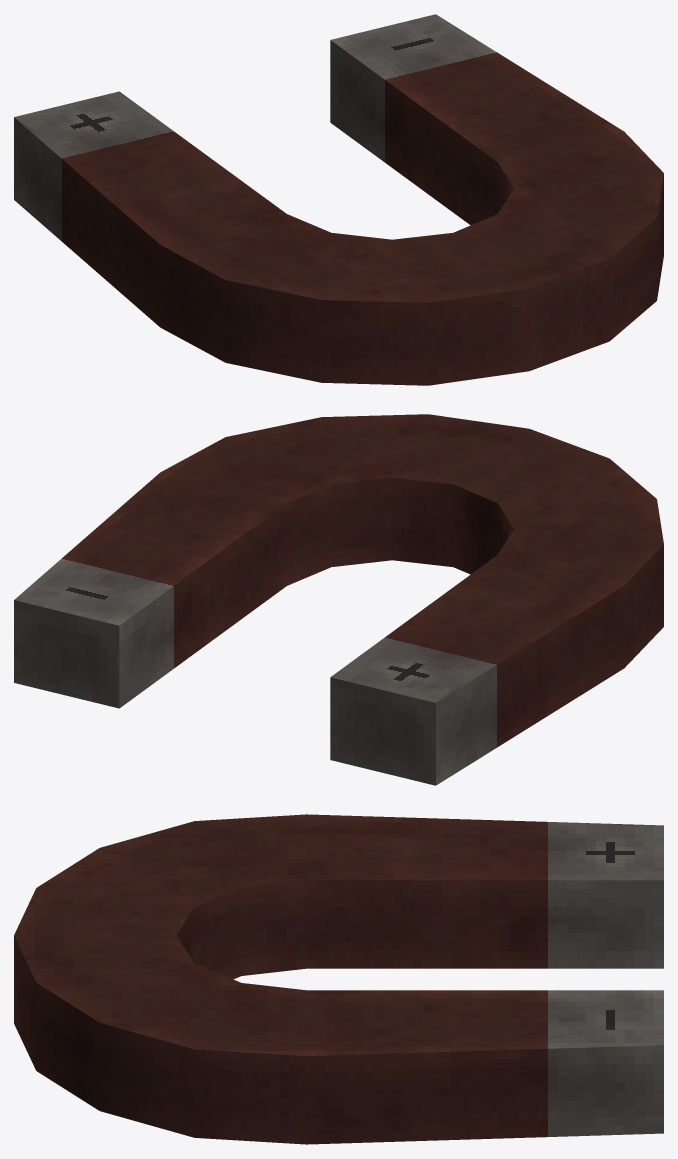
The model's file is magnet_mp_1.glb.
The picture shows the model from 3 angles, top to bottom: view 1: azimuth 30°, elevation 25°; view 2: azimuth 150°, elevation 25°; view 3: azimuth 270°, elevation 25°; orthographic projection. The views are drawn at different scales.
Visible parts, largest first — view 1: magnet_mp_1; view 2: magnet_mp_1; view 3: magnet_mp_1.
Part boxes in pixels (x1,y1,x2,y2): magnet_mp_1: [14, 14, 663, 385]; magnet_mp_1: [14, 414, 663, 785]; magnet_mp_1: [14, 814, 663, 1144].
Size of the model in its own units: 0.176 by 0.03 by 0.2.
Materials: 1 (1 with a texture image).
